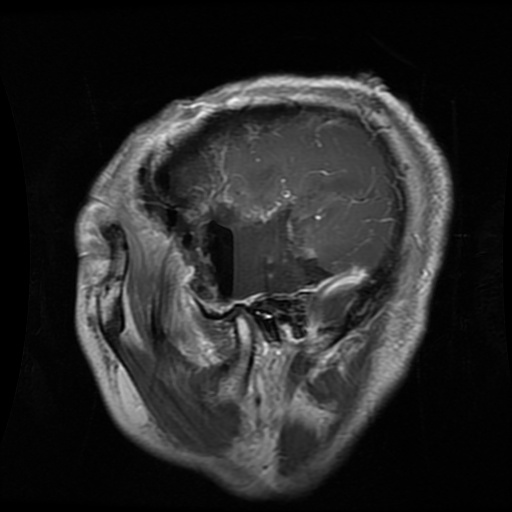glioma: (189, 202, 337, 301)
